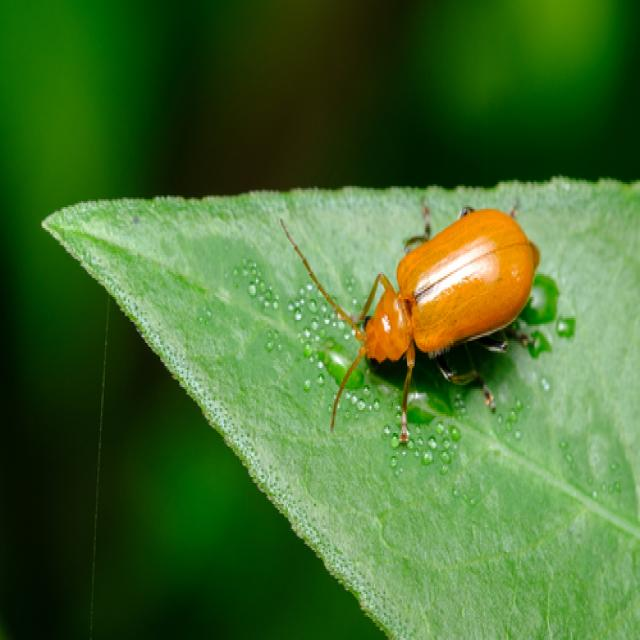Pumpkin Beetle: (271, 185, 546, 449)
